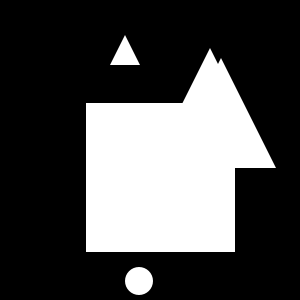circle: (86, 103, 235, 252)
rectangle: (125, 267, 153, 295)
triangle: (154, 48, 266, 160), (166, 58, 276, 168), (110, 35, 140, 65)
